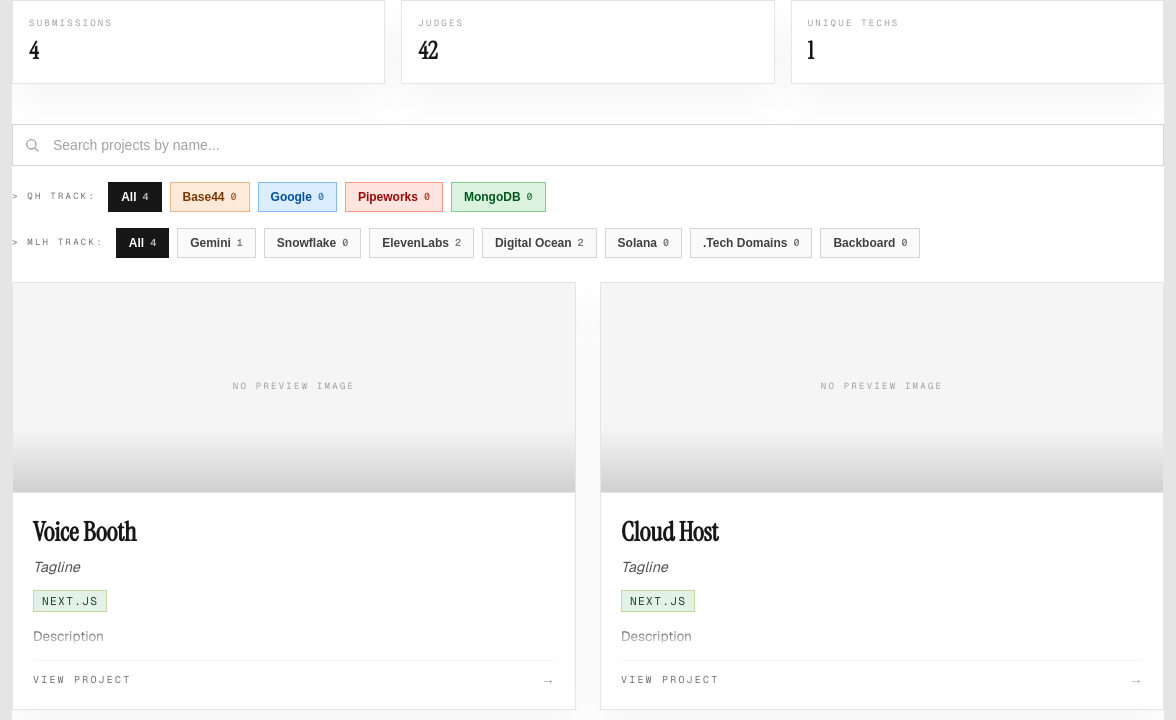
Test: ProjectGalleryClient › counts and filters camelCase MLH track ids from exported data
expect the button named "ElevenLabs2" is shown: met, box left=369, top=228, right=474, bottom=258
Click the button named "Digital Ocean2": (539,242) left=482, top=228, right=597, bottom=258
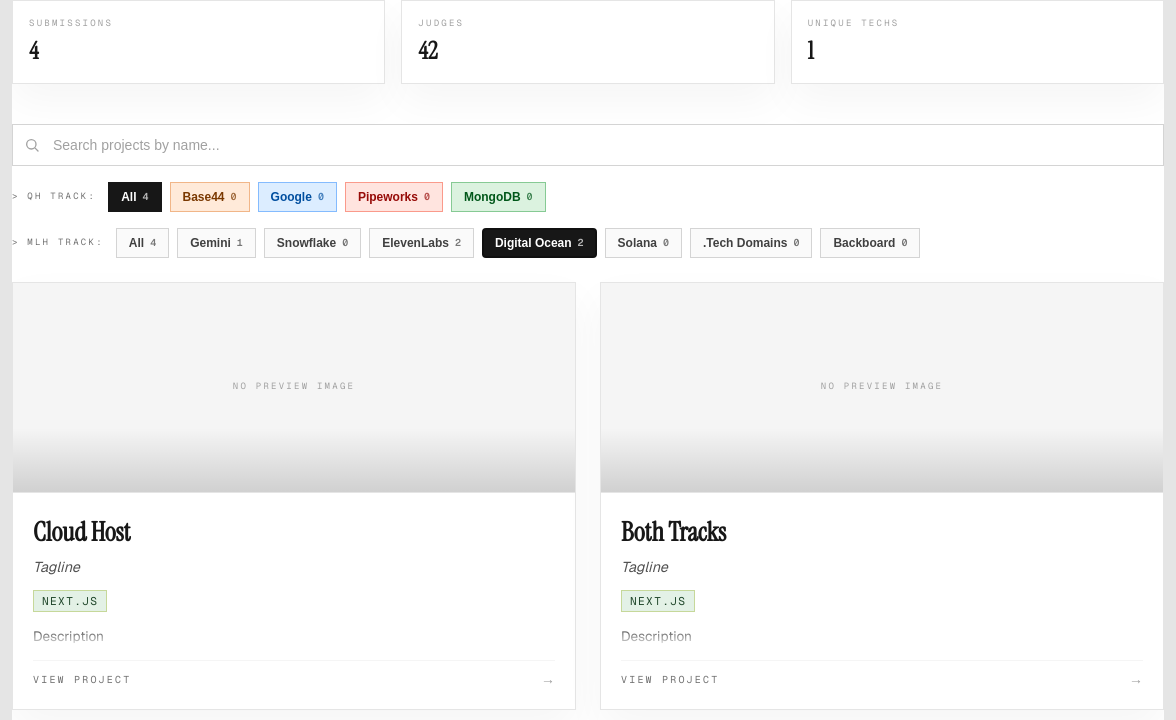
expect the heading "Cloud Host" is shown: met, box left=33, top=514, right=130, bottom=548
expect the link "Voice Booth" is gone: met
